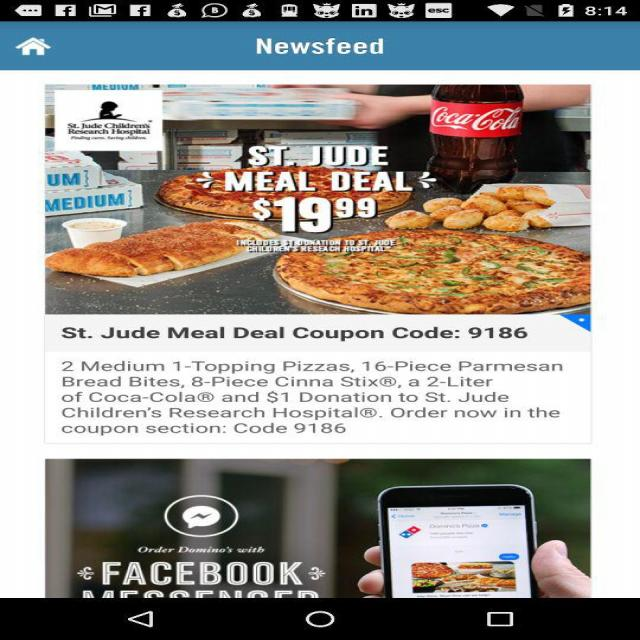icon: (6, 31, 72, 67)
image: (46, 85, 590, 312), (41, 458, 588, 596)
text: (52, 320, 578, 440), (180, 137, 460, 262), (60, 480, 339, 590), (243, 33, 402, 61)
